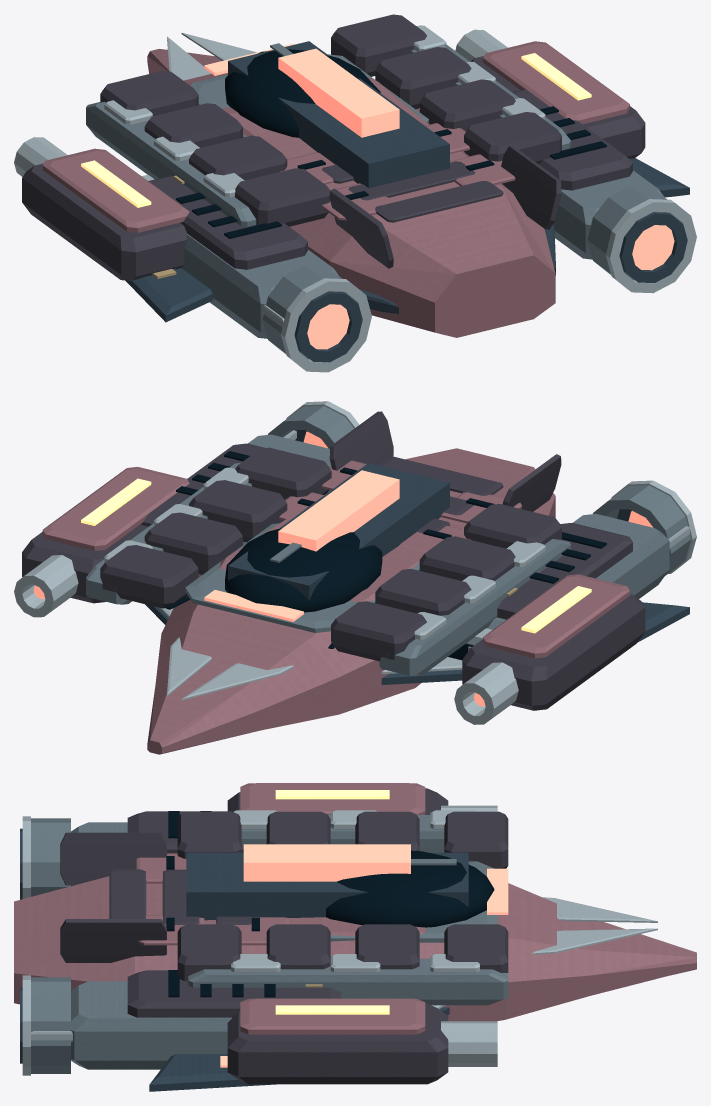
Rendered from boss.glb.
3 views of the same model, one above another, from view 1: azimuth 30°, elevation 25°; view 2: azimuth 150°, elevation 25°; view 3: azimuth 270°, elevation 25° (orthographic).
Parts seen in each view (by area): view 1: _MeshInstance3D_556; view 2: _MeshInstance3D_556; view 3: _MeshInstance3D_556.
Boxes of the visible parts, x1,y1,x2,y2 form: _MeshInstance3D_556: (14,14,696,372); _MeshInstance3D_556: (14,401,696,754); _MeshInstance3D_556: (14,783,696,1091).
Size of the model in its own units: 0.58 by 0.1533 by 0.6528.
1 material, 1 textured.
